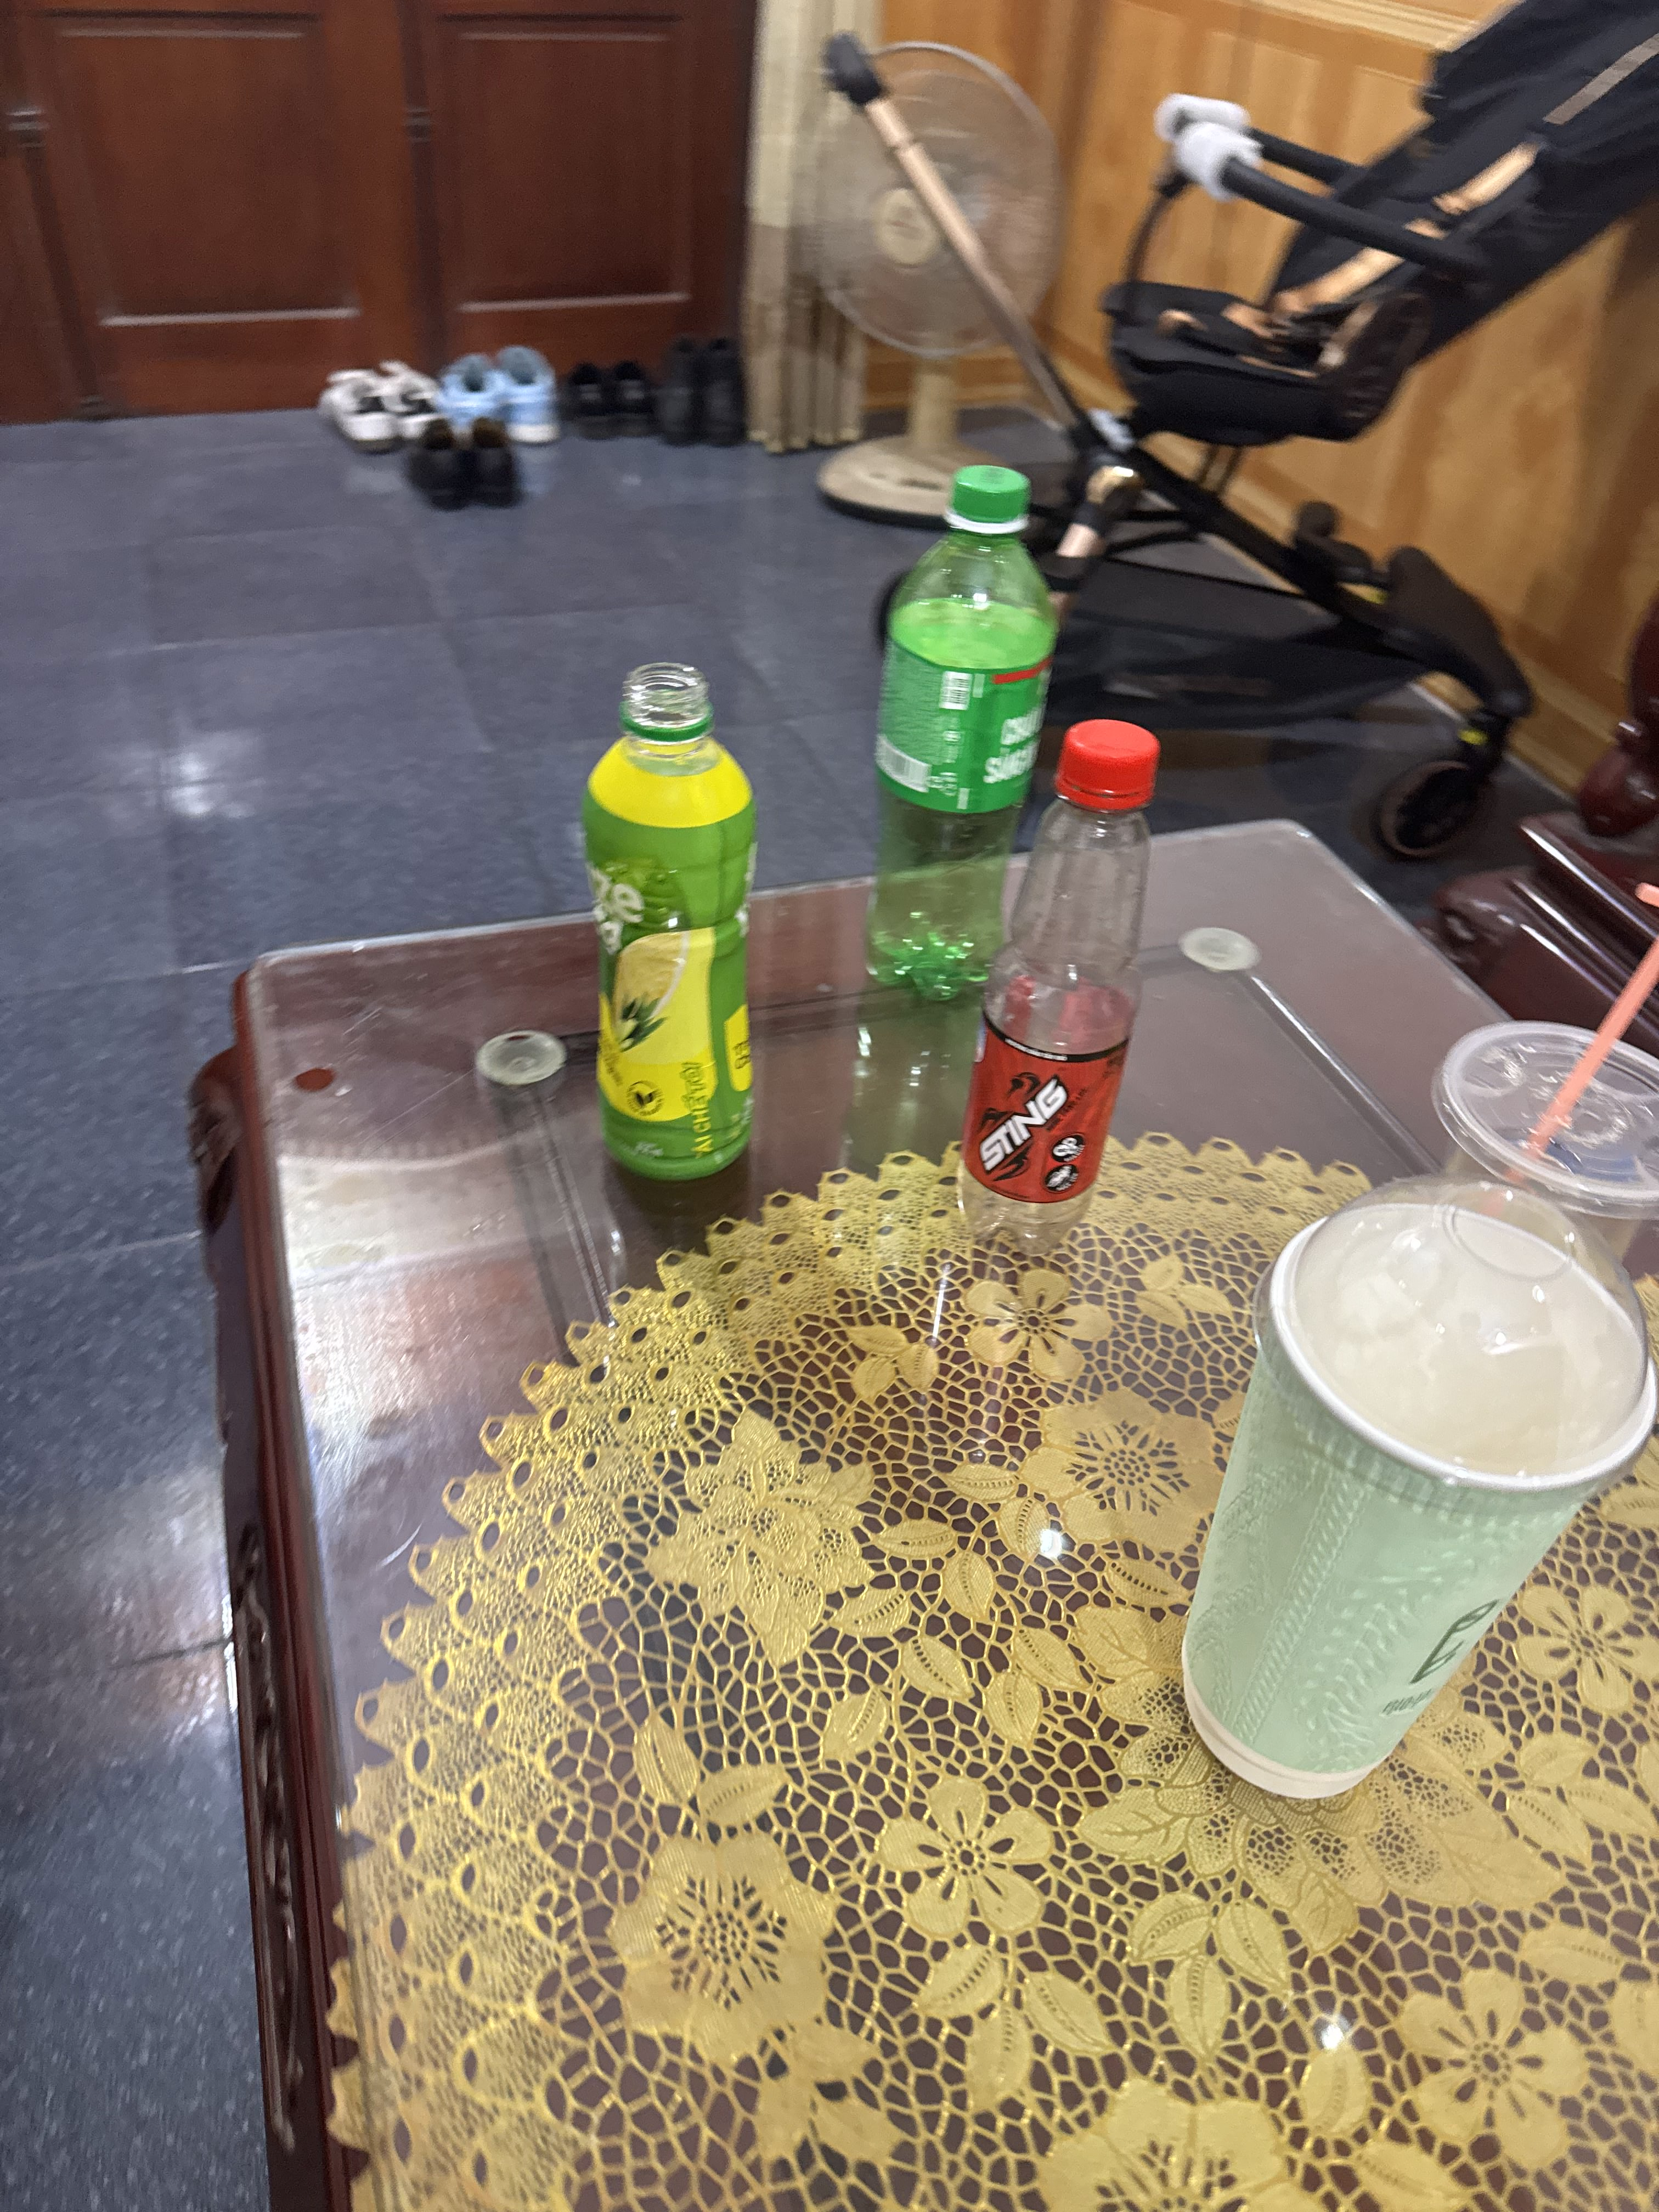2: (1150, 1153, 1659, 1874), (1403, 946, 1659, 1273)
bottle: (910, 697, 1199, 1280), (542, 634, 812, 1235), (847, 425, 1072, 1036)
